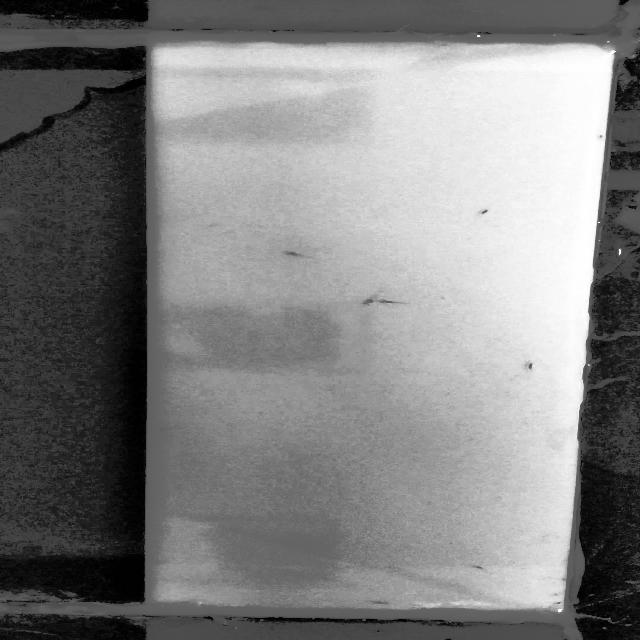shrimp: (274, 246, 320, 261), (463, 558, 493, 577), (513, 359, 548, 374), (372, 297, 414, 308), (362, 287, 377, 313), (148, 424, 182, 435), (364, 596, 394, 606), (476, 205, 491, 220)
